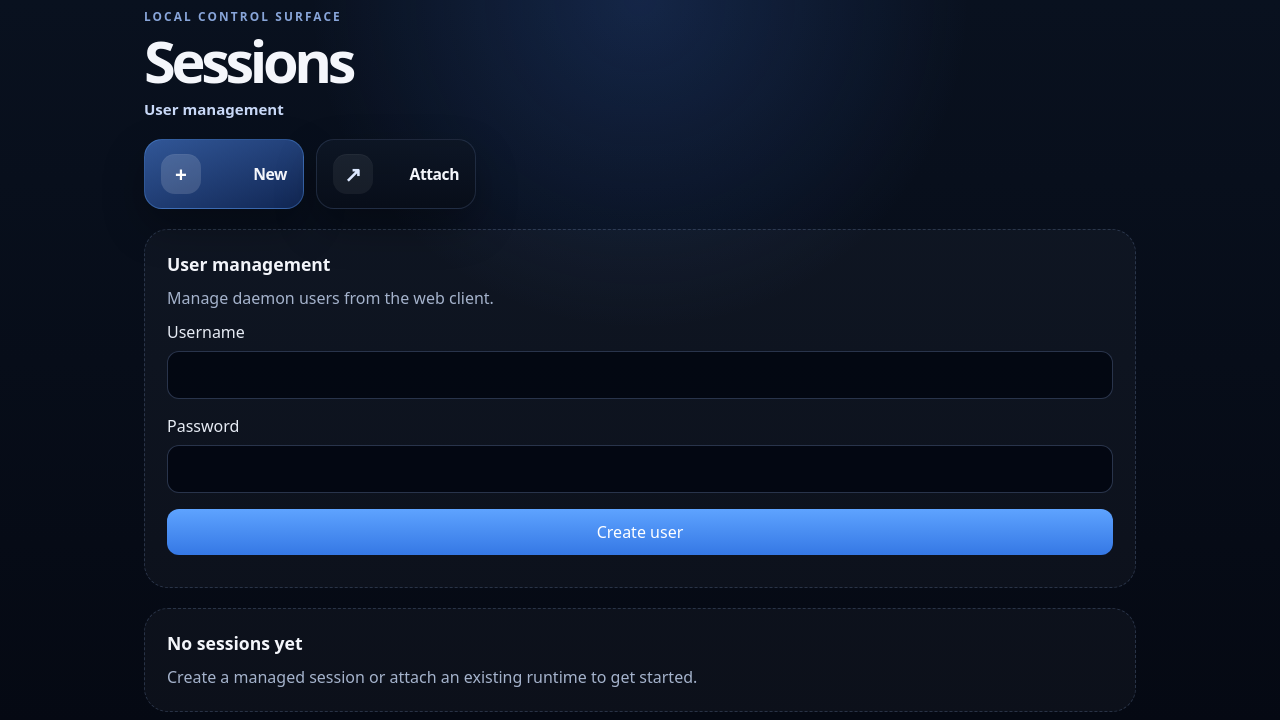
Test: SessionListView › shows an inline error when creating a user fails
Type "alice" into the field named "New username" at (640, 374), box [167,350,1113,398]
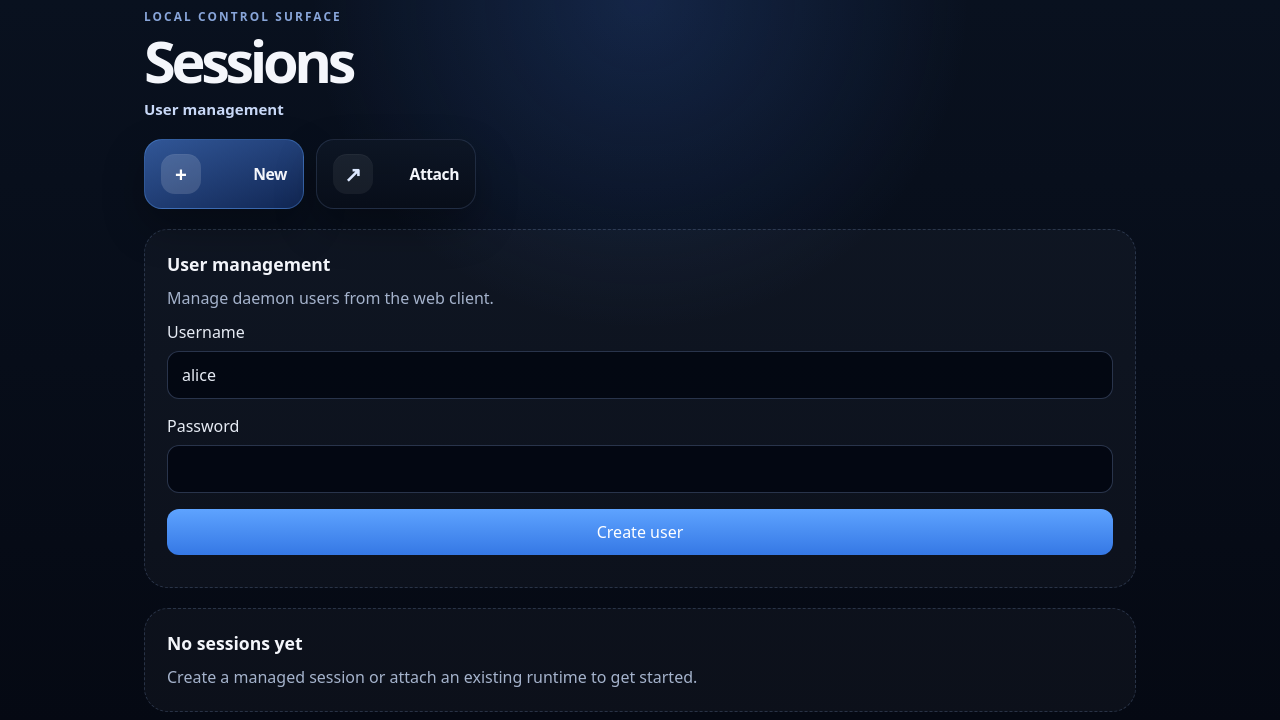
Type "alice123" into the password field named "New password" at (640, 468), box [167,444,1113,492]
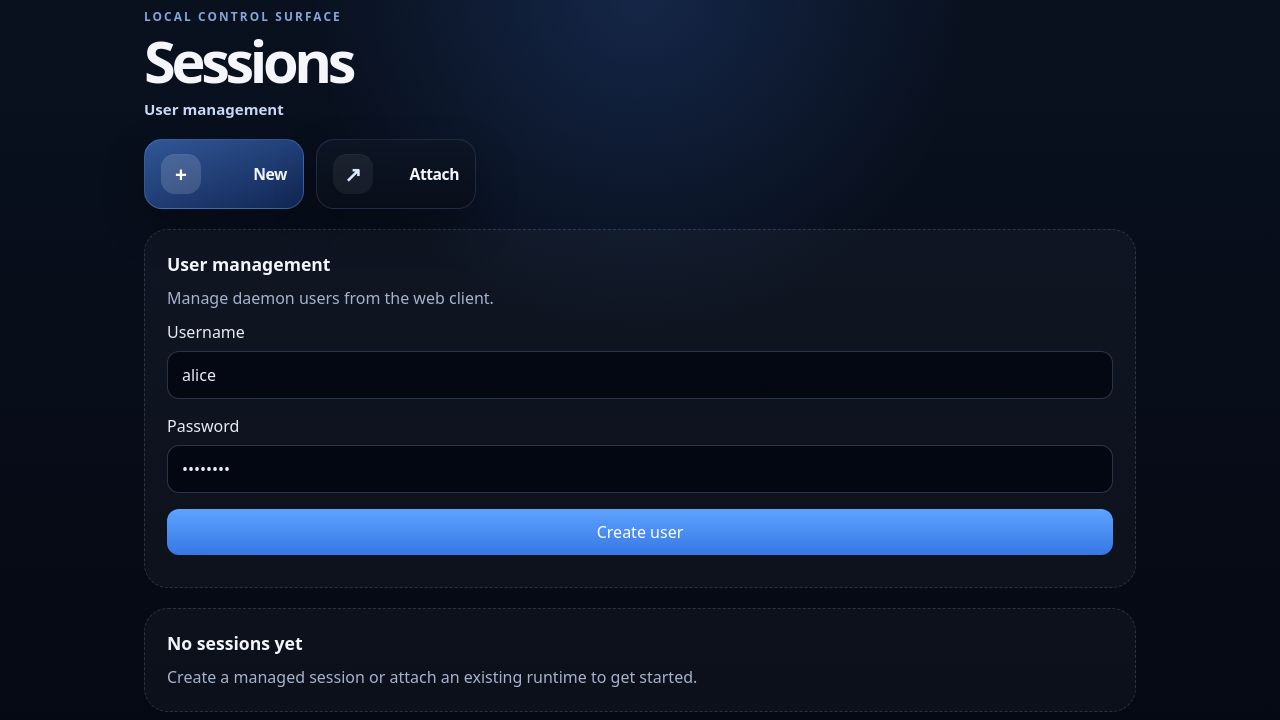
Click the button "Create user" at (640, 532), box [167,508,1113,554]
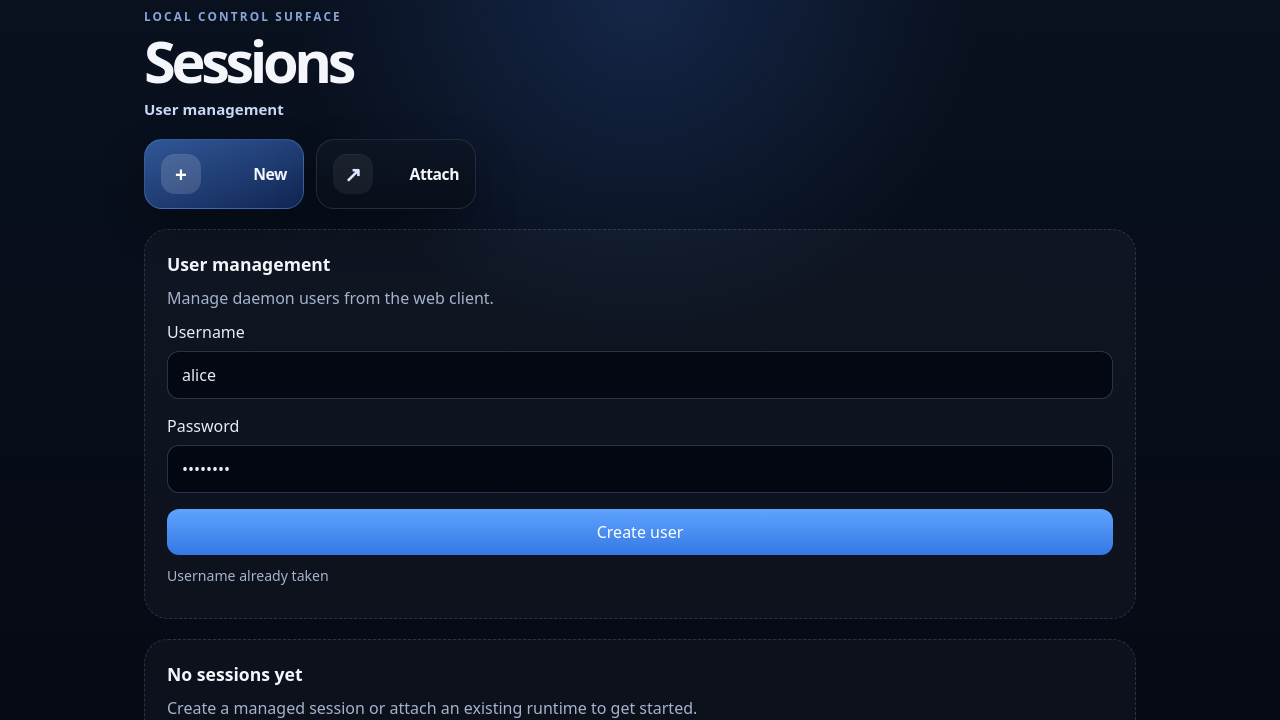
Expected: the message reads "Username already taken", [167,566,329,584]
